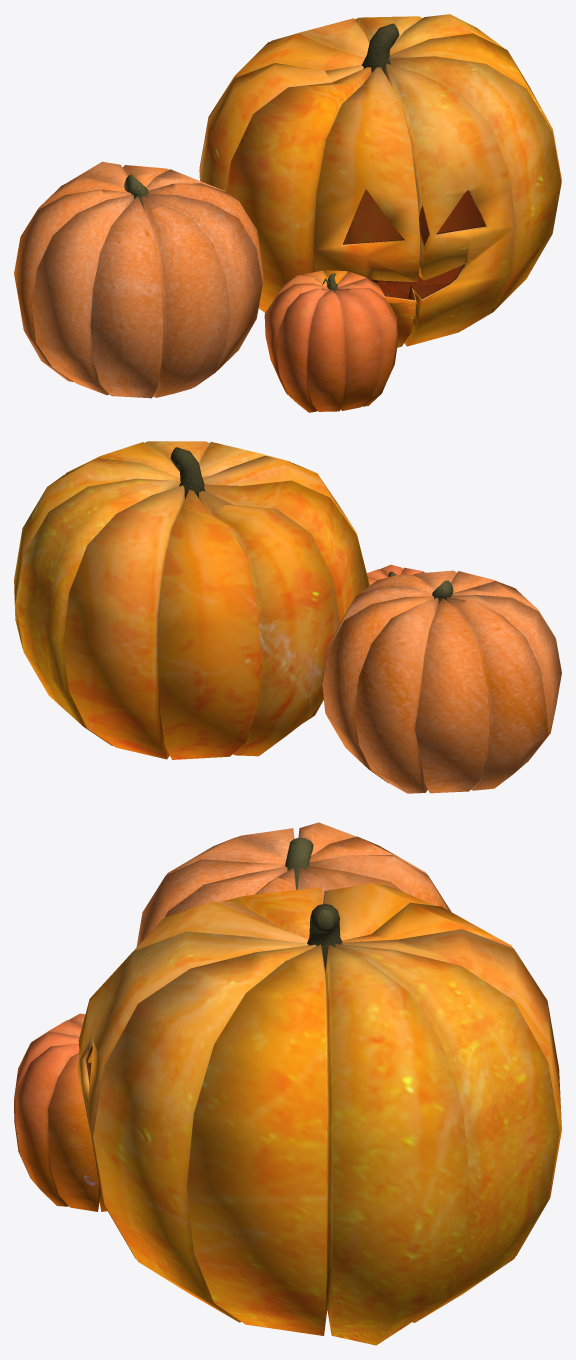
Rendered from Pumpkin-AR.glb.
3 views of the same model, one above another, from view 1: azimuth 30°, elevation 25°; view 2: azimuth 150°, elevation 25°; view 3: azimuth 270°, elevation 25° (orthographic). The views are drawn at different scales.
Visible parts, largest first — view 1: Pumpkin02, Extra_Pumpkin, Extra_Pumpkin1; view 2: Pumpkin02, Extra_Pumpkin, Extra_Pumpkin1; view 3: Pumpkin02, Extra_Pumpkin, Extra_Pumpkin1.
Boxes of the visible parts, bbox=[...] form: Pumpkin02: bbox=[199, 14, 561, 347]; Extra_Pumpkin: bbox=[14, 161, 263, 398]; Extra_Pumpkin1: bbox=[264, 270, 398, 412]; Pumpkin02: bbox=[14, 441, 368, 759]; Extra_Pumpkin: bbox=[322, 570, 561, 793]; Extra_Pumpkin1: bbox=[367, 564, 424, 586]; Pumpkin02: bbox=[77, 883, 561, 1345]; Extra_Pumpkin: bbox=[136, 822, 451, 947]; Extra_Pumpkin1: bbox=[14, 1013, 107, 1211].
Bounding box in the file's own units: 1.05 × 0.5534 × 0.7103.
2 materials, 2 textured.
